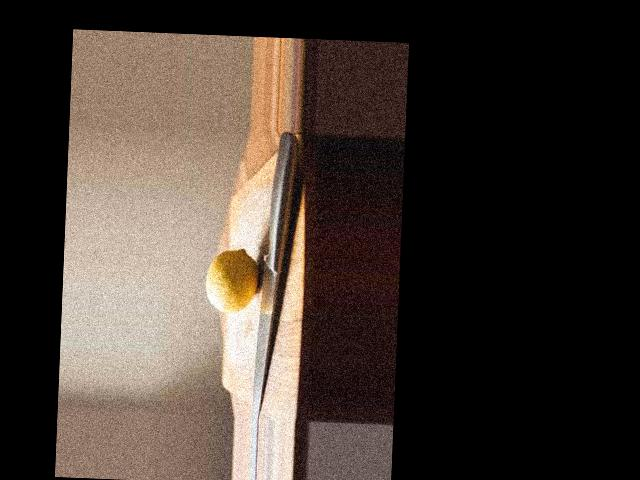lemon: (201, 243, 260, 322)
